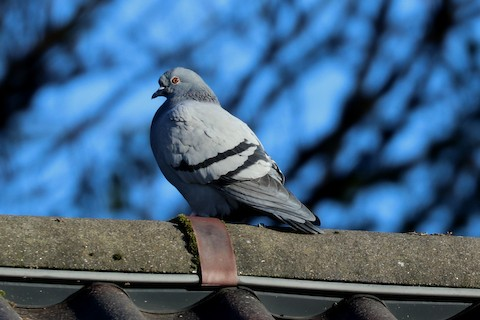pigeon: (146, 63, 331, 239)
